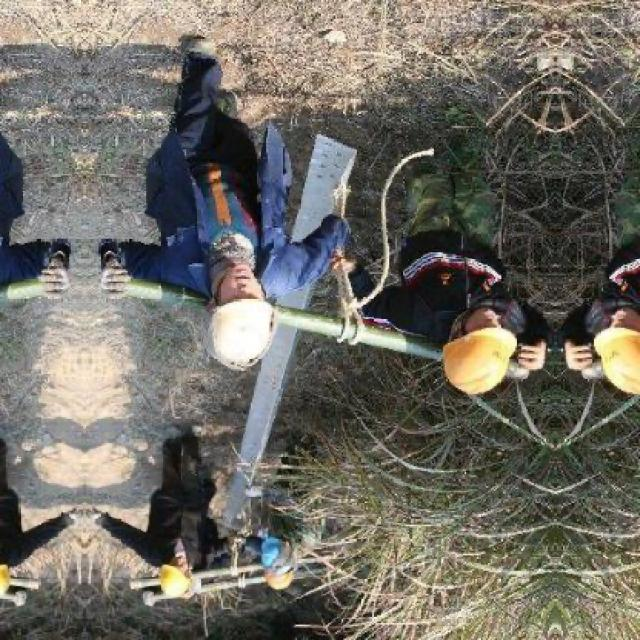con casco: (399, 289, 505, 412), (181, 230, 275, 364), (124, 504, 245, 608), (577, 289, 640, 403)
